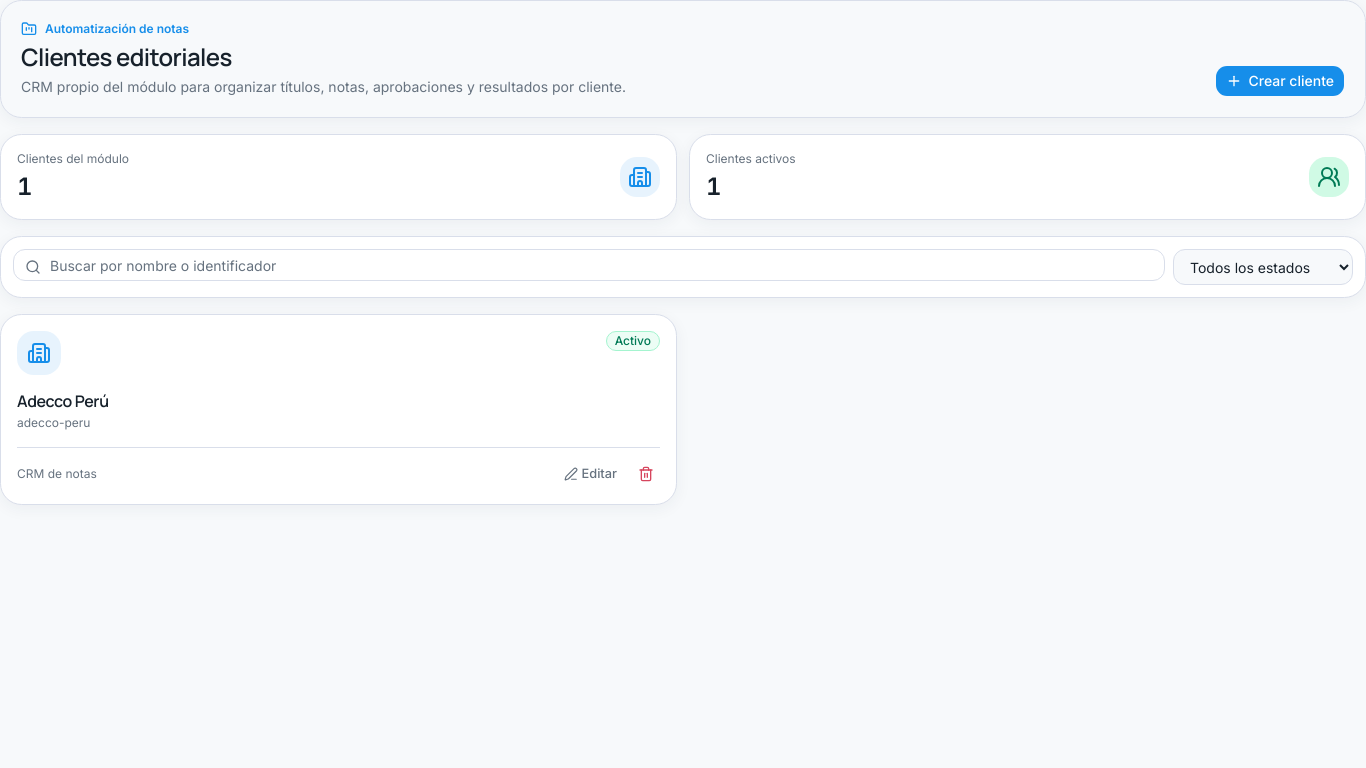
ClientCrmWorkspace › muestra los clientes del módulo y permite crear uno
expect the heading "Adecco Perú" is shown: met, box left=17, top=390, right=109, bottom=412
Click the button "Crear cliente" at (1280, 81), box left=1216, top=65, right=1345, bottom=97
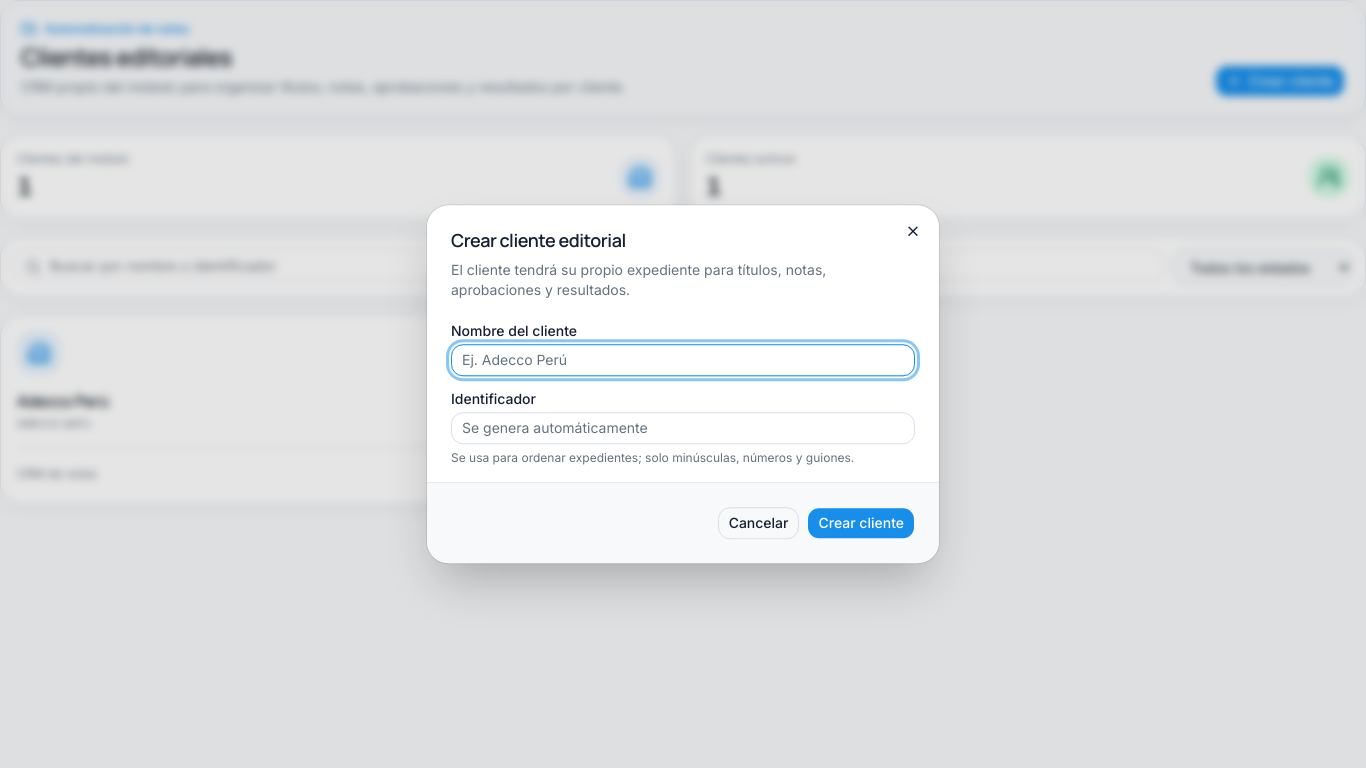
Type "Cliente Nuevo" into the field labelled "Nombre del cliente" at (683, 360), box left=451, top=344, right=915, bottom=376
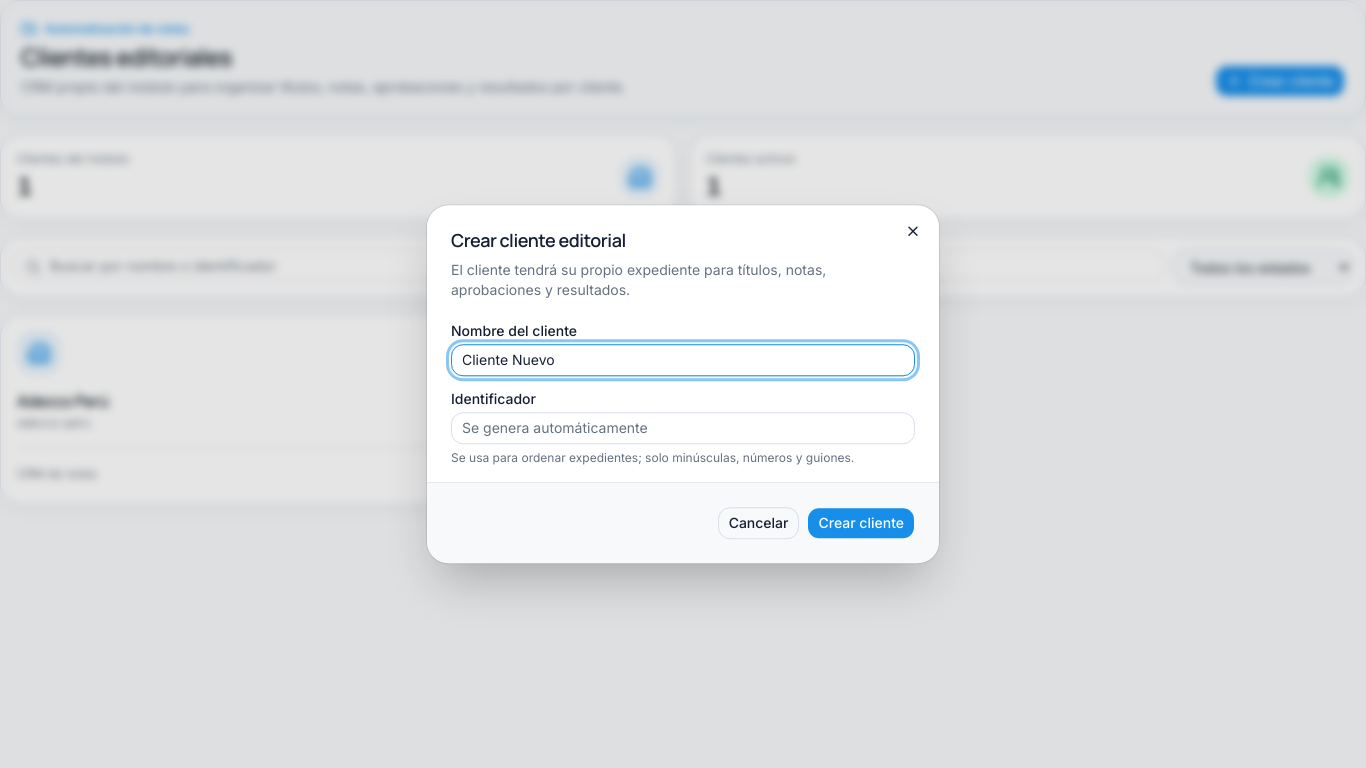
Click the button "Crear cliente" at (861, 523), box left=808, top=507, right=915, bottom=539
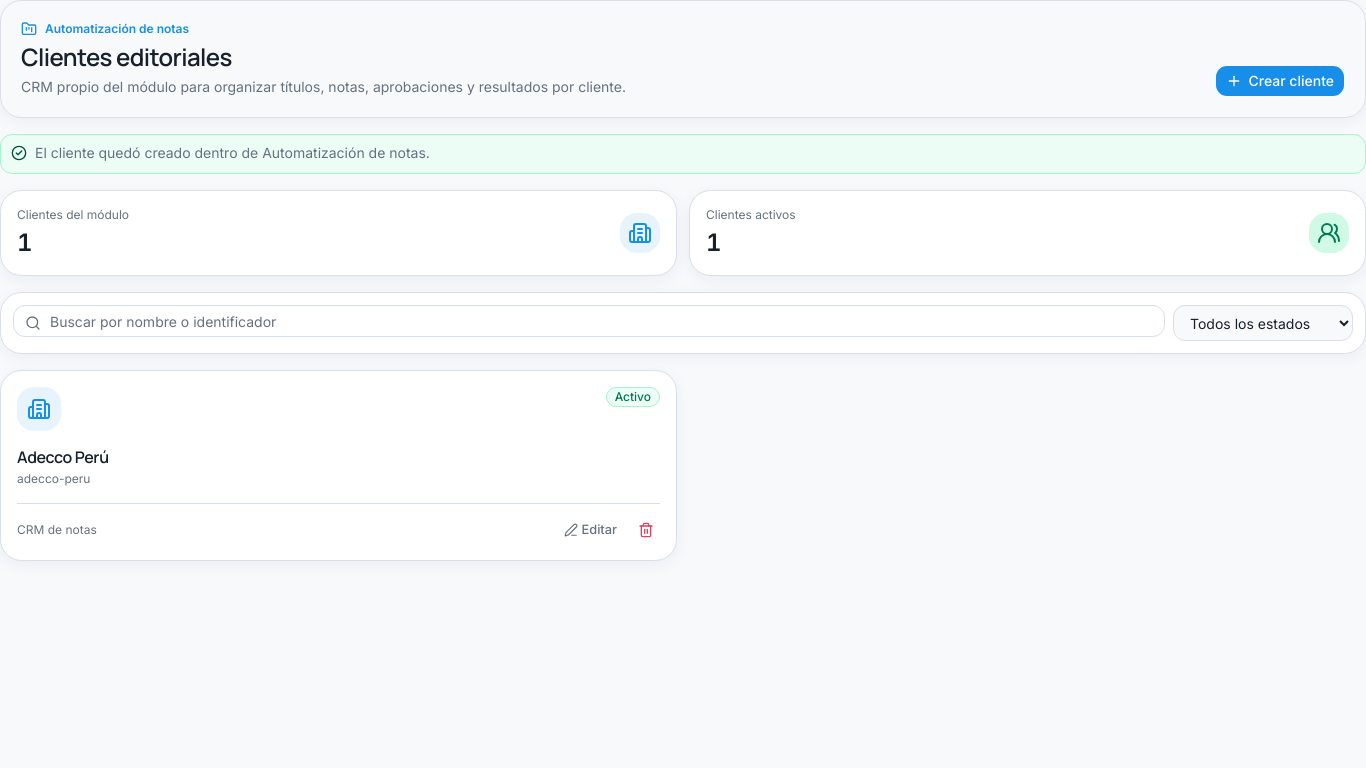
expect the heading "Crear cliente editorial" is gone: met
